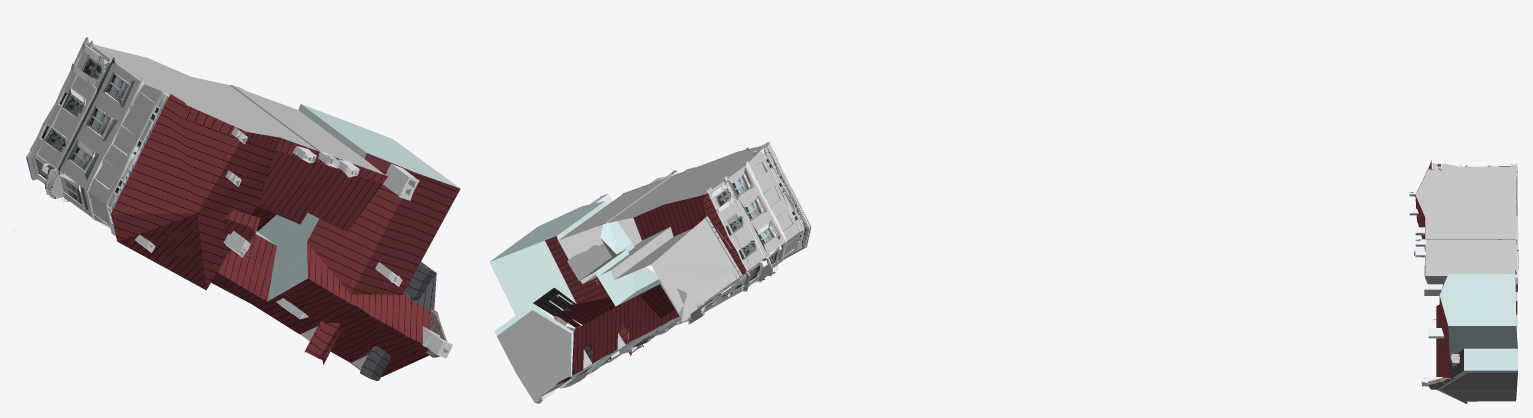
Rendered from Lai_36-origo.obj.
3 views of the same model, side by side, from view 1: azimuth 30°, elevation 25°; view 2: azimuth 150°, elevation 25°; view 3: azimuth 270°, elevation 25° (orthographic). The views are drawn at different scales.
Visible parts, largest first — view 1: Lai_36; view 2: Lai_36; view 3: Lai_36.
Part boxes in pixels (x1,y1,x2,y2): Lai_36: [14, 37, 460, 380]; Lai_36: [489, 14, 1187, 403]; Lai_36: [1216, 14, 1518, 403].
Size of the model in its own units: 60.5 by 41 by 46.74.
